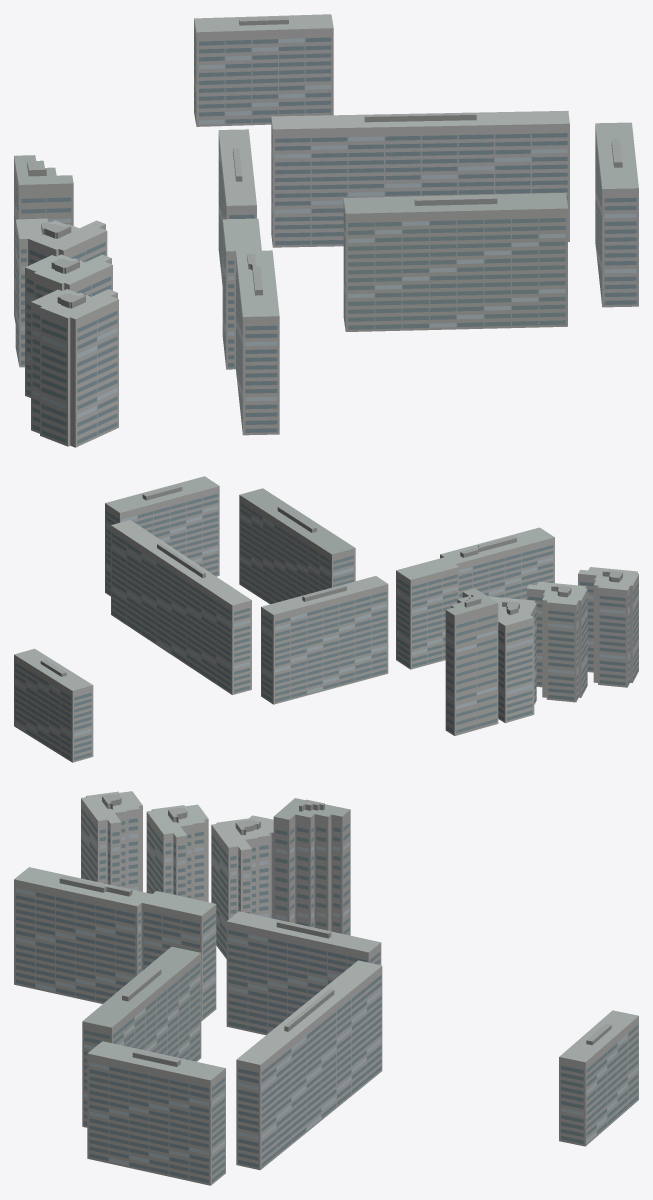
Rendered from apt-a13813008.glb.
3 renders of one model, top to bottom at view 1: azimuth 30°, elevation 25°; view 2: azimuth 150°, elevation 25°; view 3: azimuth 270°, elevation 25°, orthographic. The views are drawn at different scales.
Parts seen in each view (by area): view 1: apt-a13813008; view 2: apt-a13813008; view 3: apt-a13813008.
Part boxes in pixels (x1=…): apt-a13813008: x1=14, y1=14, x2=638, y2=447; apt-a13813008: x1=14, y1=476, x2=638, y2=762; apt-a13813008: x1=14, y1=791, x2=638, y2=1185.
Bounding box in the file's own units: 261 × 64 × 246.
